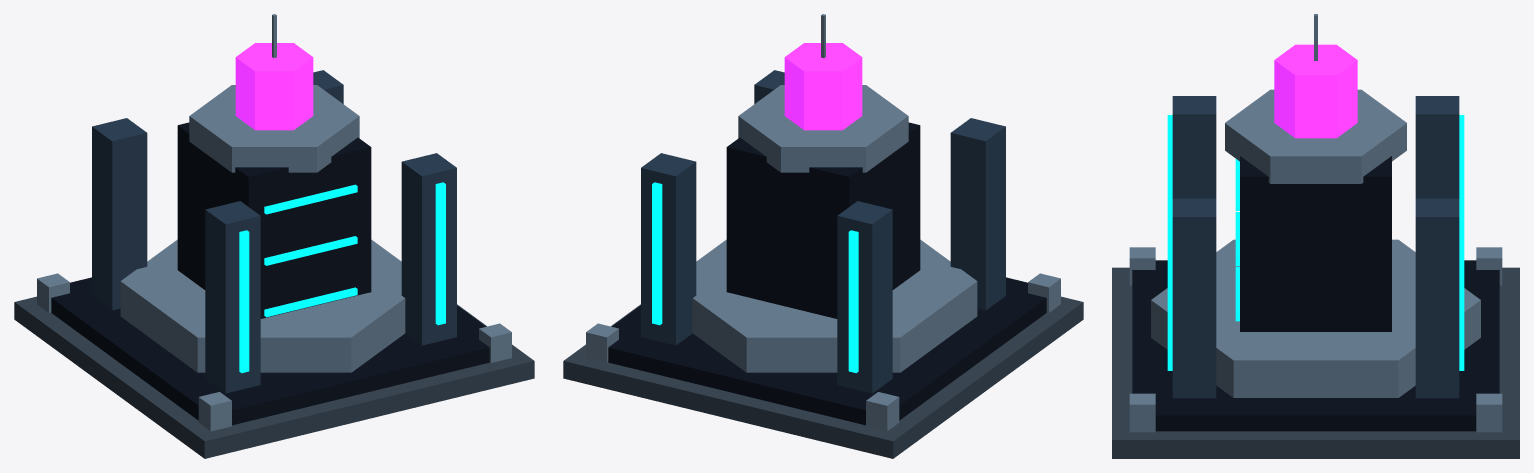
Rendered from core_low.glb.
3 renders of one model, left to right at view 1: azimuth 30°, elevation 25°; view 2: azimuth 150°, elevation 25°; view 3: azimuth 270°, elevation 25°, orthographic. The views are drawn at different scales.
Parts seen in each view (by area): view 1: Archive monolith, Octagonal pedestal, Undercarriage, Foundation, Armored buttress, Armored buttress.001, Crown, Armored buttress.003, Signal crystal, Signal strip.003, Signal strip.001, Corner lock.001 (+6 smaller); view 2: Archive monolith, Octagonal pedestal, Undercarriage, Foundation, Armored buttress.001, Armored buttress, Crown, Armored buttress.002, Signal crystal, Signal strip.002, Signal strip, Corner lock (+3 smaller); view 3: Archive monolith, Undercarriage, Octagonal pedestal, Foundation, Crown, Armored buttress.002, Armored buttress.003, Signal crystal, Armored buttress, Armored buttress.001, Corner lock.002, Corner lock.003 (+6 smaller).
Boxes of the visible parts, <box> form: Archive monolith: <box>177,122,371,318</box>; Octagonal pedestal: <box>120,239,405,372</box>; Undercarriage: <box>51,277,489,425</box>; Foundation: <box>14,296,534,458</box>; Armored buttress: <box>92,118,147,310</box>; Armored buttress.001: <box>205,201,260,393</box>; Crown: <box>189,85,359,172</box>; Armored buttress.003: <box>401,153,456,345</box>; Signal crystal: <box>235,43,313,130</box>; Signal strip.003: <box>435,182,445,325</box>; Signal strip.001: <box>239,230,249,373</box>; Corner lock.001: <box>198,392,231,431</box>; Archive monolith: <box>726,122,920,318</box>; Octagonal pedestal: <box>692,239,977,372</box>; Undercarriage: <box>608,277,1046,425</box>; Foundation: <box>563,296,1083,458</box>; Armored buttress.001: <box>950,118,1005,310</box>; Armored buttress: <box>837,201,892,393</box>; Crown: <box>738,85,908,172</box>; Armored buttress.002: <box>641,153,696,345</box>; Signal crystal: <box>784,43,862,130</box>; Signal strip.002: <box>652,182,662,325</box>; Signal strip: <box>848,230,858,373</box>; Corner lock: <box>866,392,899,431</box>; Archive monolith: <box>1240,156,1391,331</box>; Undercarriage: <box>1132,260,1499,431</box>; Octagonal pedestal: <box>1151,239,1480,397</box>; Foundation: <box>1112,267,1519,458</box>; Crown: <box>1225,89,1406,183</box>; Armored buttress.002: <box>1415,198,1459,398</box>; Armored buttress.003: <box>1172,198,1216,398</box>; Signal crystal: <box>1274,44,1357,138</box>; Armored buttress: <box>1415,96,1459,198</box>; Armored buttress.001: <box>1172,96,1216,198</box>; Corner lock.002: <box>1476,393,1502,432</box>; Corner lock.003: <box>1129,393,1155,432</box>.
Bounding box in the file's own units: 4.7 × 4.55 × 4.7.
